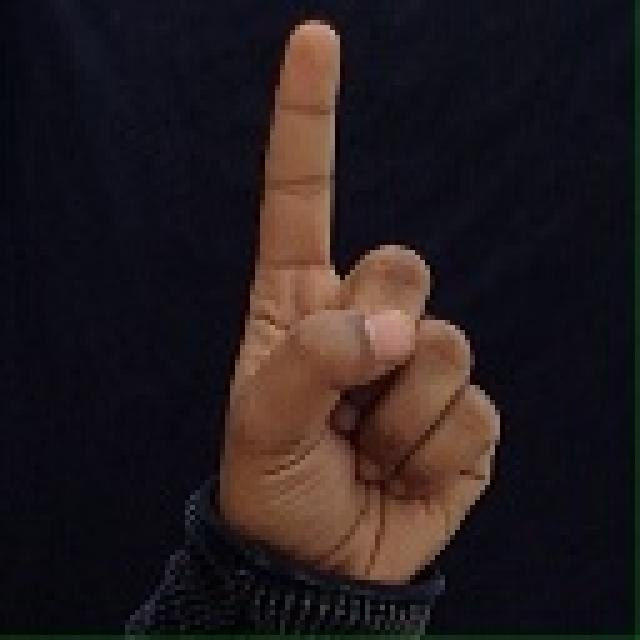Numeric-1: (222, 26, 500, 590)
